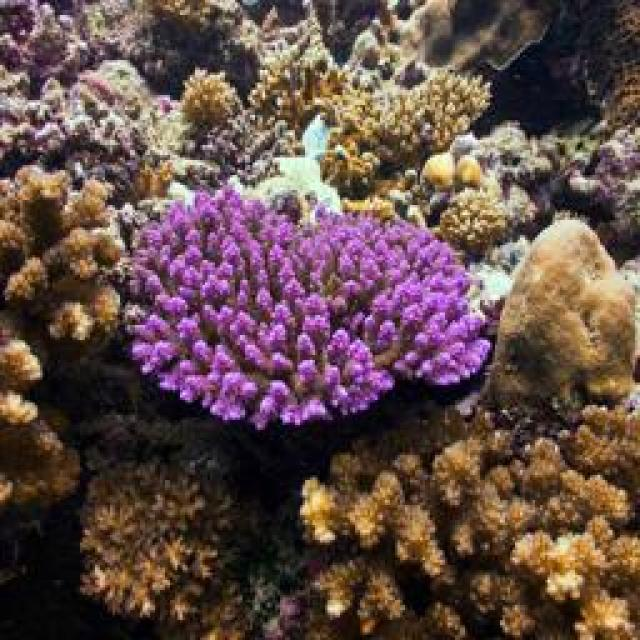reefs: (129, 185, 490, 429), (302, 404, 638, 637), (0, 169, 125, 426), (76, 456, 250, 624), (438, 190, 507, 253), (178, 66, 245, 122)
sea-floor: (487, 216, 638, 421)
